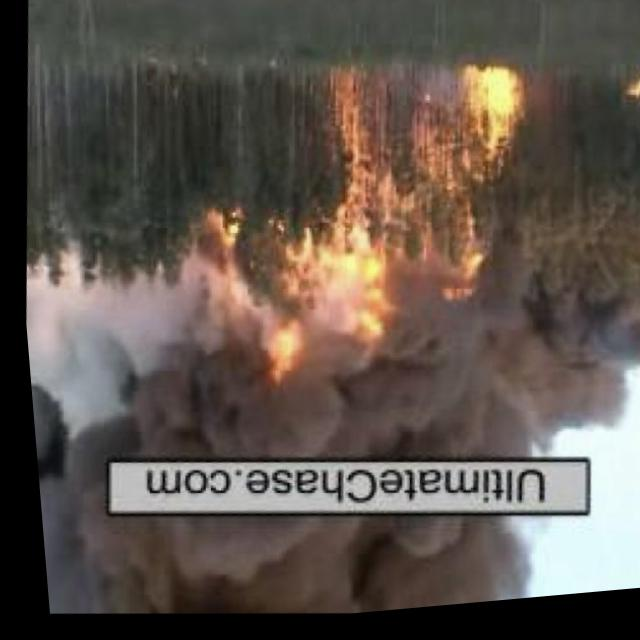Fire: (306, 57, 540, 368), (166, 206, 309, 414), (617, 79, 640, 121)
